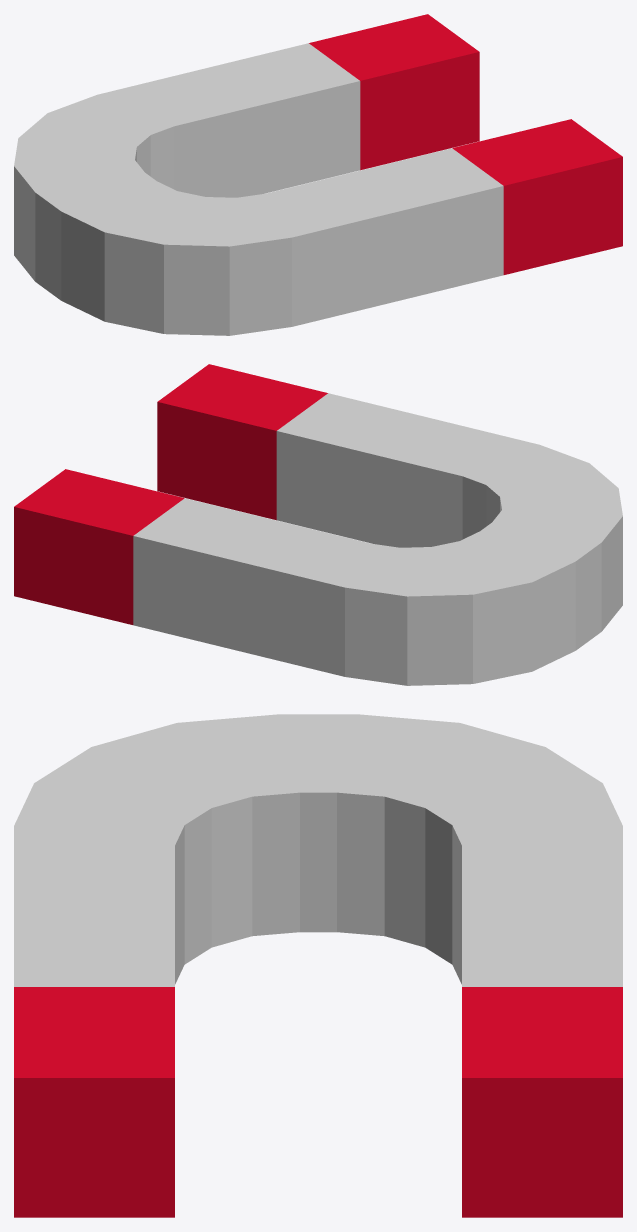
Rendered from Magnet.fbx.
3 renders of one model, top to bottom at view 1: azimuth 30°, elevation 25°; view 2: azimuth 150°, elevation 25°; view 3: azimuth 270°, elevation 25°, orthographic. The views are drawn at different scales.
Parts seen in each view (by area): view 1: Küp.380; view 2: Küp.380; view 3: Küp.380.
Boxes of the visible parts, box(x1,y1,x2,y2) form: Küp.380: box(14, 14, 622, 335); Küp.380: box(14, 364, 622, 685); Küp.380: box(14, 714, 622, 1217).
Size of the model in its own units: 600 by 107 by 425.
